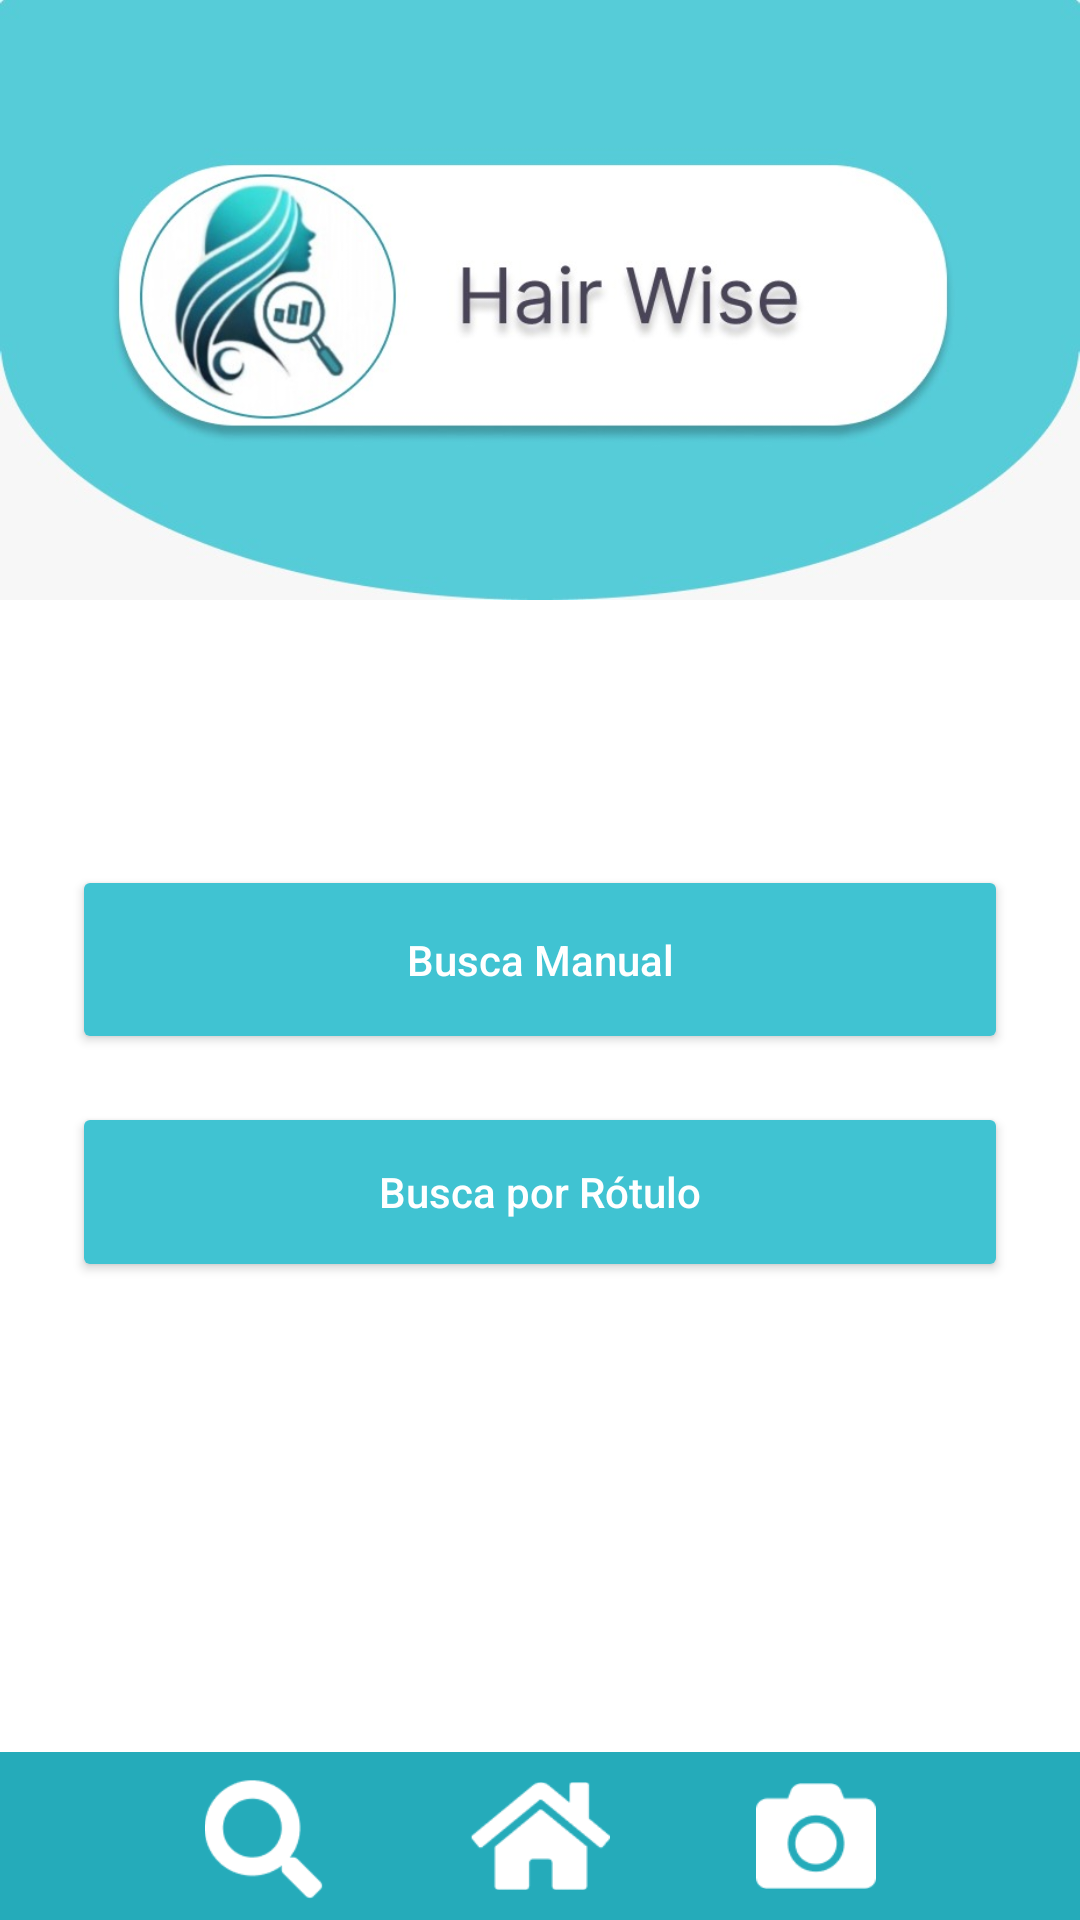

Locate icon controls on the screen. Image size 1080 x 1920, boxes as bbox=[x1, y1, x2, y2].
camera: bbox=[756, 1783, 876, 1889]
home: bbox=[471, 1782, 610, 1890]
search: bbox=[205, 1780, 322, 1898]
